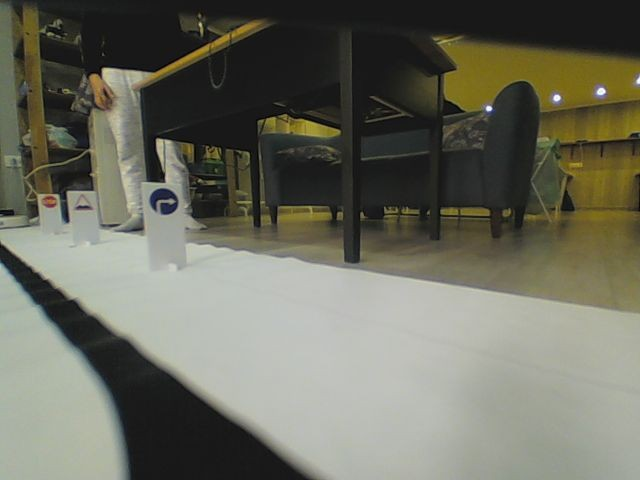Nerov: (72, 194, 94, 213)
Right: (149, 187, 179, 216)
